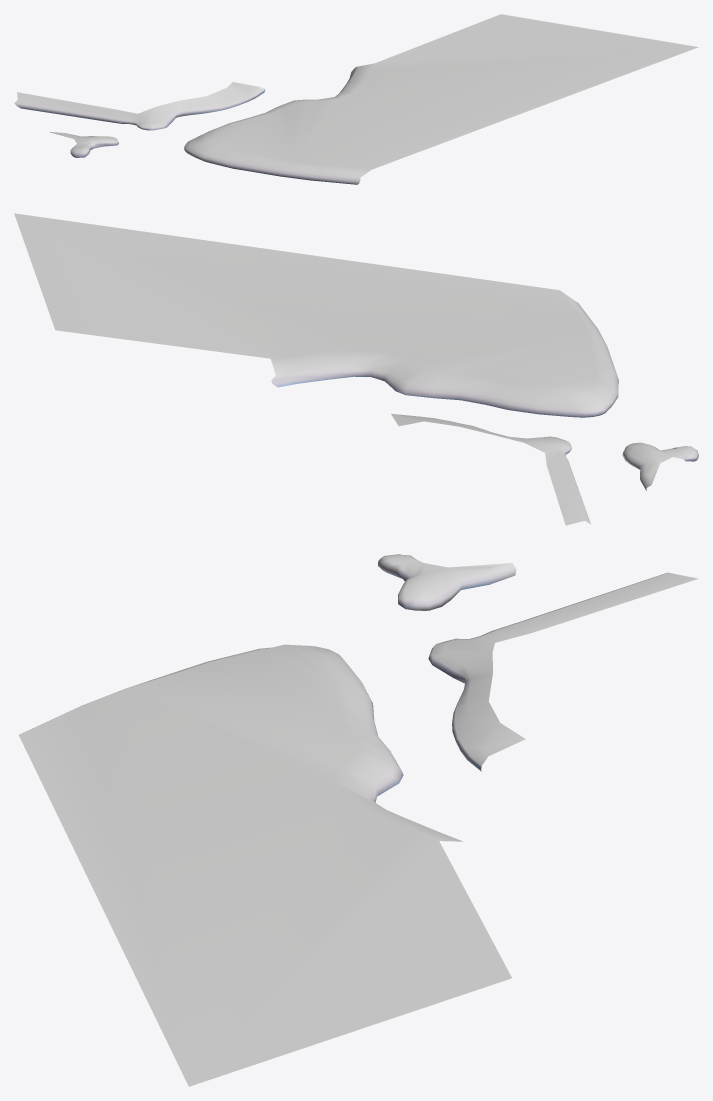
The model's file is TownSnow_0.glb.
The picture shows the model from 3 angles, top to bottom: view 1: azimuth 30°, elevation 25°; view 2: azimuth 150°, elevation 25°; view 3: azimuth 270°, elevation 25°; orthographic projection. The views are drawn at different scales.
Parts seen in each view (by area): view 1: TownSnow; view 2: TownSnow; view 3: TownSnow.
Part boxes in pixels (box(x1,y1,x2,y2)): TownSnow: box(14, 14, 698, 184); TownSnow: box(14, 213, 698, 525); TownSnow: box(19, 554, 698, 1086).
Size of the model in its own units: 61.95 by 1.36 by 33.05.
